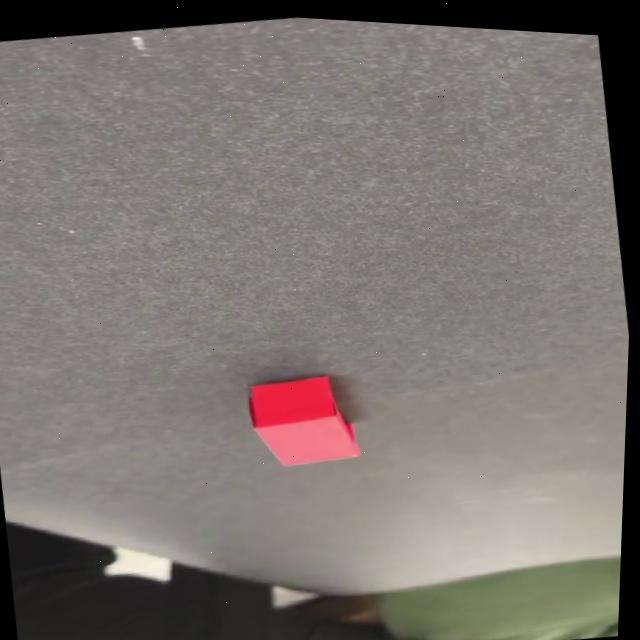red block: (241, 368, 364, 477)
